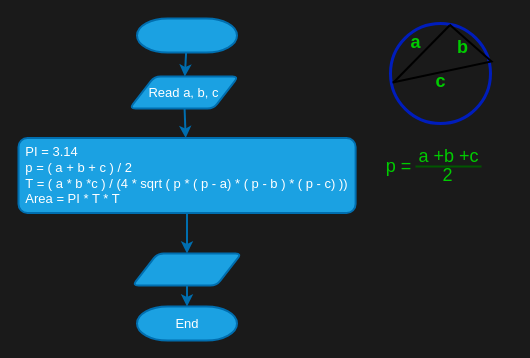
Image size: 530x358. Some labels were removed from this diagram. The box of each missing label's shape, as (x1, y1, x2, y2) in pixels:
Print Area: (131, 252, 242, 286)
start: (136, 17, 238, 53)
